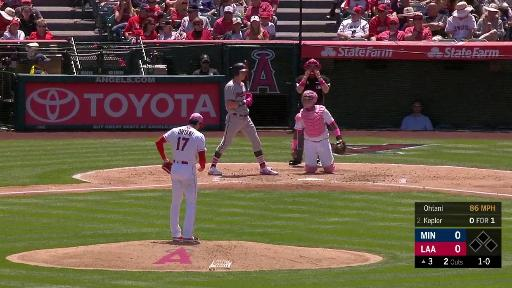pitcher: (155, 113, 213, 244)
